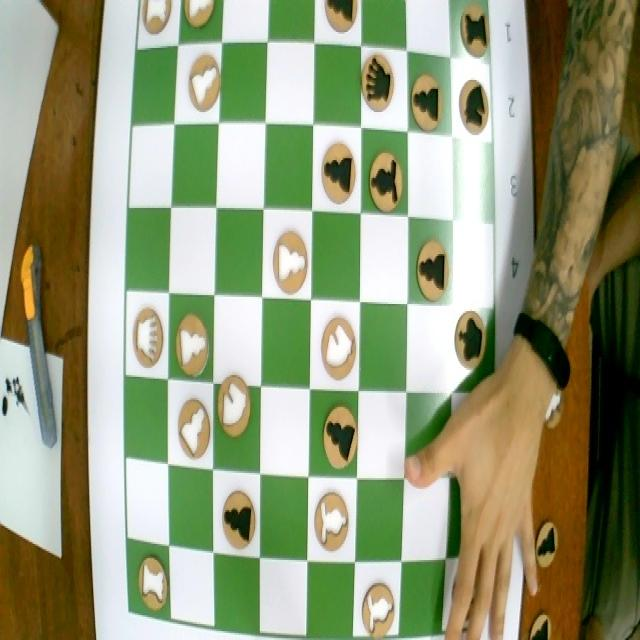chess-pieces: (356, 44, 402, 125), (314, 131, 359, 212), (264, 217, 310, 296), (410, 223, 452, 308), (171, 302, 213, 383), (216, 482, 259, 558), (318, 303, 356, 385), (318, 401, 361, 472), (447, 307, 495, 370), (311, 483, 356, 550), (185, 50, 228, 120), (215, 372, 256, 444), (455, 67, 492, 143), (406, 68, 445, 140), (367, 142, 406, 214), (173, 393, 213, 460), (359, 574, 398, 640), (456, 1, 497, 63), (131, 303, 166, 374), (135, 559, 171, 616), (179, 0, 220, 40), (136, 0, 174, 33)
